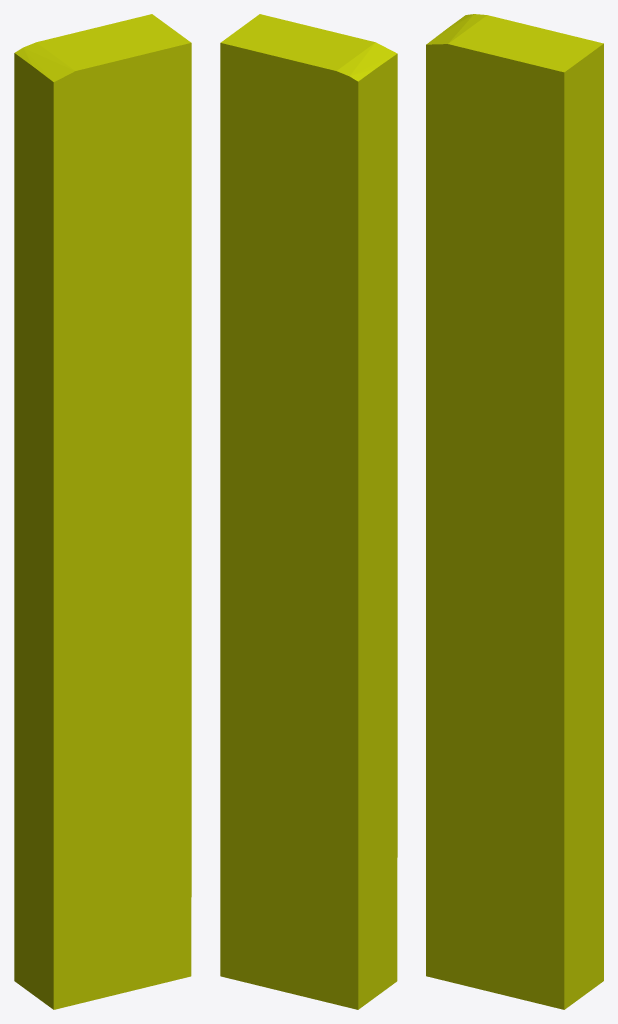
3 renders of one model, left to right at view 1: azimuth 30°, elevation 25°; view 2: azimuth 150°, elevation 25°; view 3: azimuth 330°, elevation 25°, orthographic.
Bounding box in the file's own units: 1.01 × 6.55 × 0.5004.
